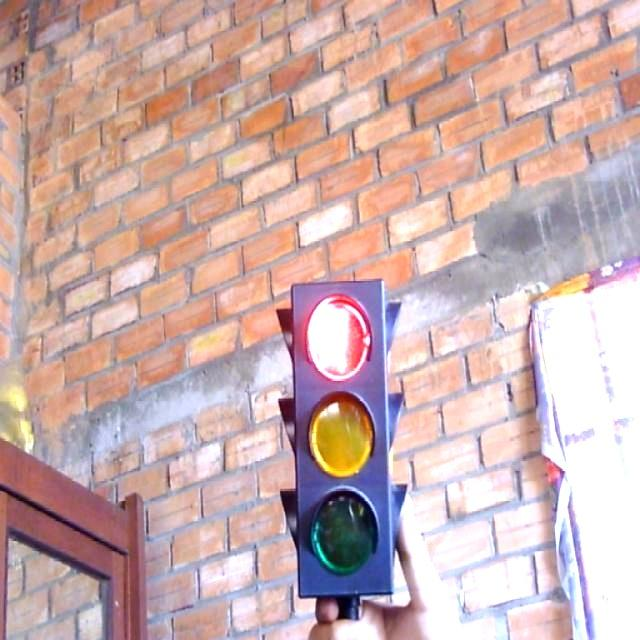Red: (288, 279, 404, 602)
